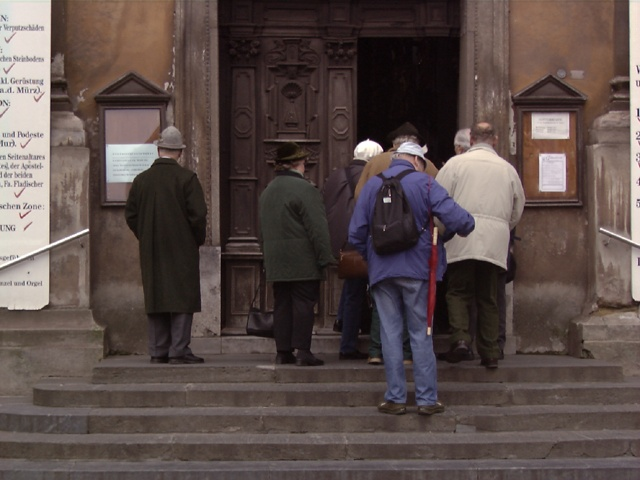person: (348, 140, 473, 418), (427, 123, 525, 366), (121, 126, 211, 362), (259, 145, 334, 367)
